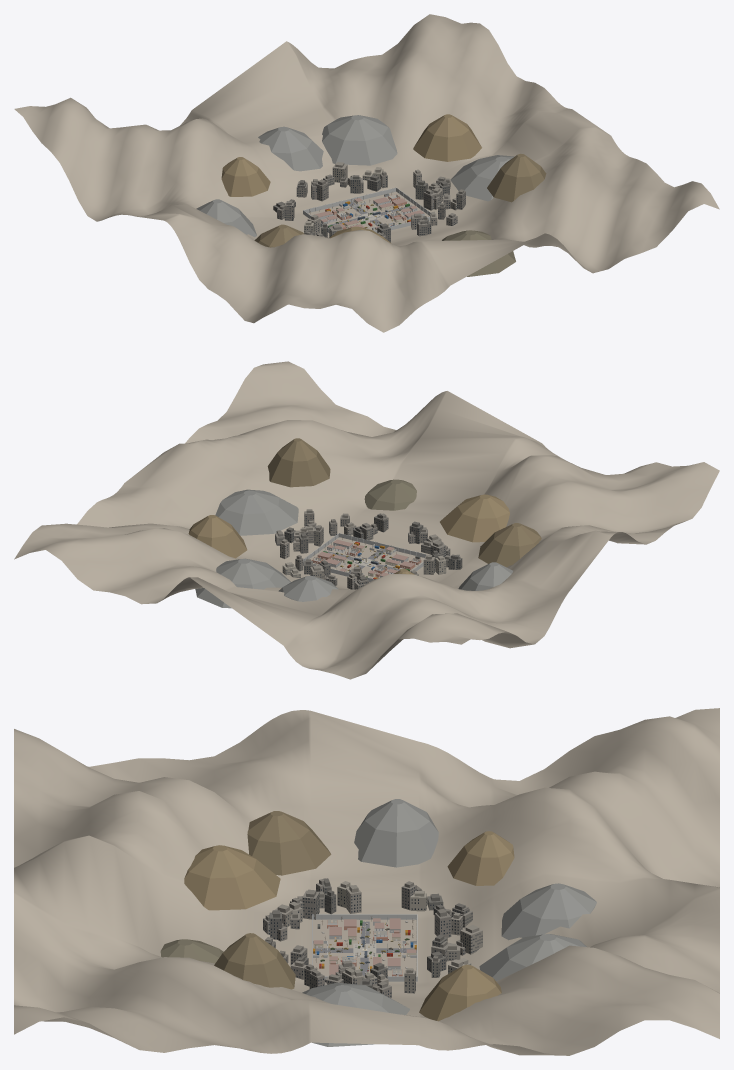
File: warzone.glb
The picture shows the model from 3 angles, top to bottom: view 1: azimuth 30°, elevation 25°; view 2: azimuth 150°, elevation 25°; view 3: azimuth 270°, elevation 25°; orthographic projection. The views are drawn at different scales.
Visible parts, largest first — view 1: warzone_outer, warzone_far, warzone_ground, warzone_dark, warzone_cmu, warzone_roof; view 2: warzone_outer, warzone_far, warzone_ground, warzone_dark, warzone_cmu, warzone_roof; view 3: warzone_outer, warzone_far, warzone_ground, warzone_dark, warzone_cmu, warzone_roof, warzone_road.
Part boxes in pixels (x1,y1,x2,y2): warzone_outer: (14, 14, 719, 332); warzone_far: (196, 114, 546, 276); warzone_ground: (302, 191, 429, 233); warzone_dark: (273, 169, 465, 240); warzone_cmu: (303, 187, 431, 232); warzone_roof: (315, 197, 424, 228); warzone_outer: (14, 361, 719, 679); warzone_far: (188, 438, 541, 608); warzone_ground: (303, 537, 424, 582); warzone_dark: (275, 515, 461, 588); warzone_cmu: (303, 533, 426, 581); warzone_roof: (318, 539, 414, 576); warzone_outer: (14, 708, 719, 1055); warzone_far: (160, 799, 596, 1046); warzone_ground: (311, 919, 418, 982); warzone_dark: (263, 887, 482, 997); warzone_cmu: (312, 914, 417, 981); warzone_roof: (313, 918, 416, 975); warzone_road: (313, 921, 416, 976).
Size of the model in its own units: 676 by 113 by 676.
26 materials, 3 textured.
